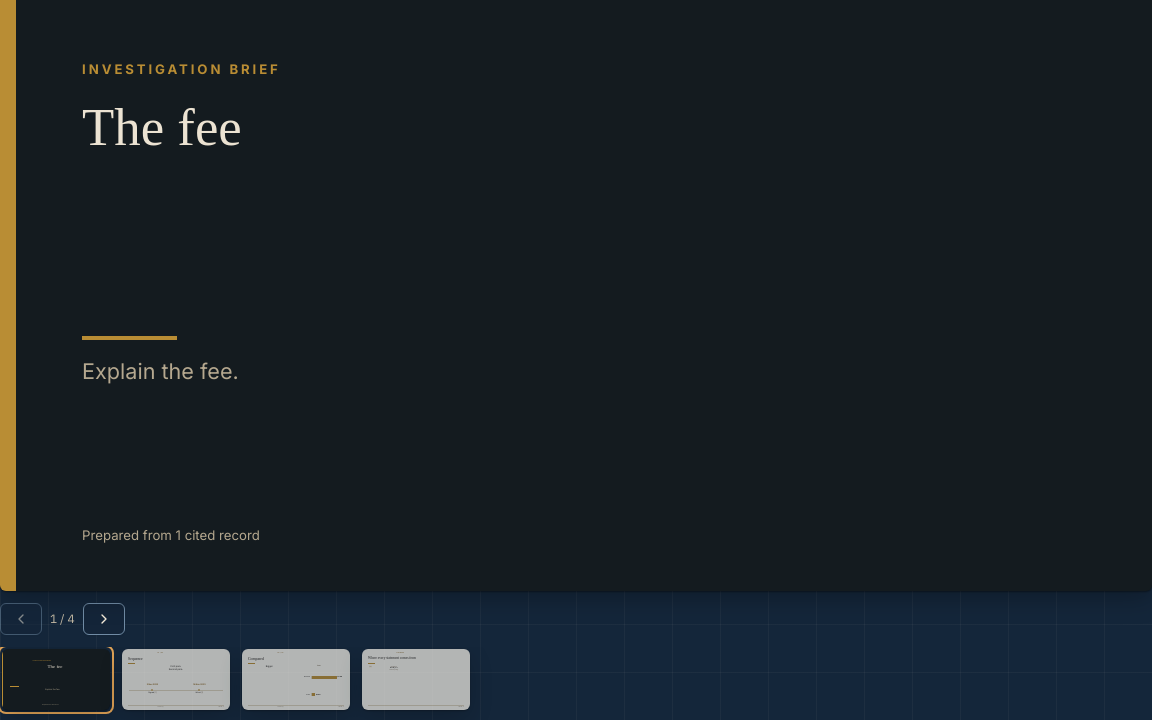
DraftPreview › shows a slidedoc's prose on its slides in place of the bullets
The width and height of the screenshot is (1152, 720).
(page scrolled)
Click the tab with aria-label "Go to slide 2". click: coordinates (176, 679)
box: top-left (120, 647), bottom-right (232, 712)
(page scrolled)
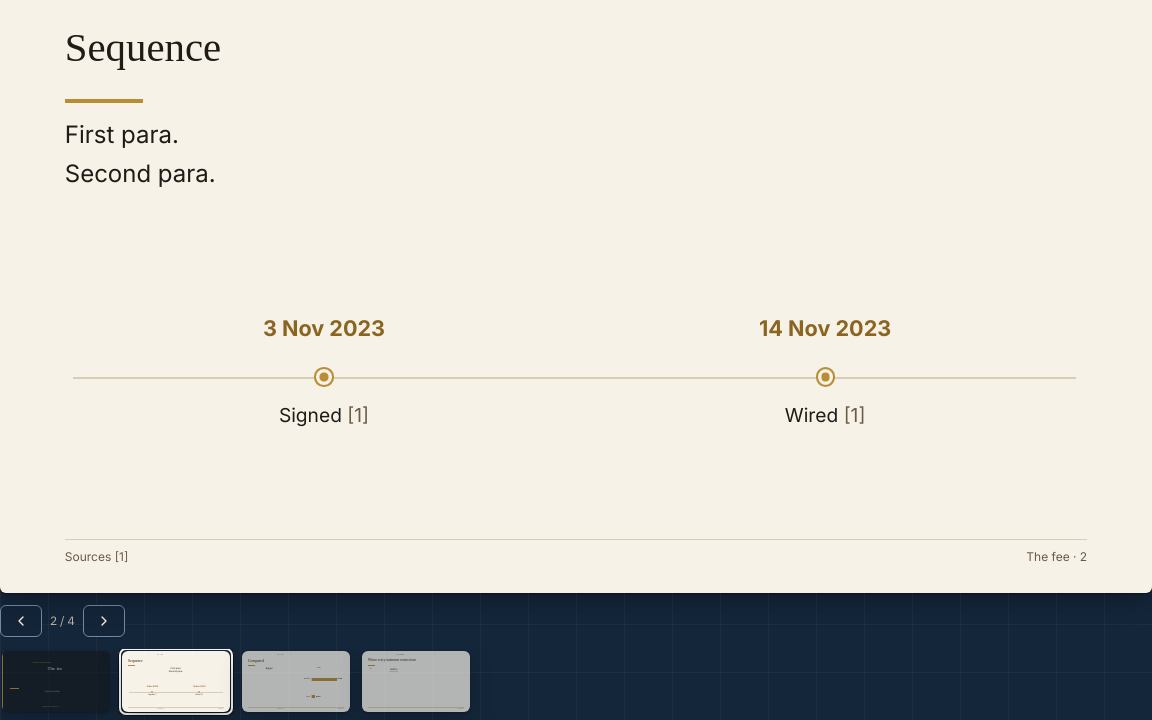
Expected: the text "First para." below "01 / 02" is shown, top-left (65, 120), bottom-right (179, 149)
Expected: the text "Second para." below "01 / 02" is shown, top-left (65, 159), bottom-right (216, 188)
